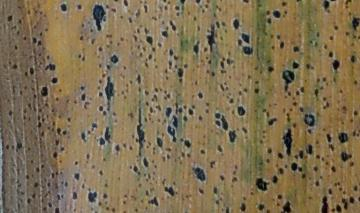tarspot: (134, 105, 146, 160), (91, 2, 107, 34), (280, 69, 296, 93), (281, 127, 293, 157), (104, 74, 114, 110), (190, 165, 208, 184), (205, 23, 215, 53), (254, 176, 270, 194), (166, 125, 178, 145), (318, 195, 330, 213), (280, 199, 294, 213), (336, 131, 349, 145), (220, 115, 230, 133), (163, 185, 178, 197), (104, 125, 112, 147), (303, 113, 316, 126), (86, 190, 99, 203), (227, 129, 238, 144), (351, 15, 360, 33), (176, 66, 185, 84), (340, 150, 352, 163), (240, 32, 252, 45), (146, 196, 160, 207), (167, 19, 178, 32), (218, 80, 229, 93), (242, 45, 253, 57), (39, 86, 50, 98), (272, 9, 282, 22), (331, 58, 340, 72), (219, 56, 226, 74), (79, 131, 88, 145), (163, 88, 172, 102), (171, 114, 179, 129), (110, 53, 120, 65), (193, 39, 201, 54), (44, 62, 56, 72), (135, 72, 143, 87), (351, 127, 360, 140), (232, 17, 240, 31), (236, 105, 246, 116), (320, 1, 331, 11), (132, 164, 142, 175), (59, 2, 69, 13), (215, 142, 224, 154), (341, 200, 349, 213), (328, 164, 338, 174), (213, 119, 223, 129), (267, 117, 277, 127), (144, 35, 154, 45), (343, 1, 354, 10), (183, 138, 192, 149), (97, 137, 106, 148), (90, 123, 98, 135), (307, 142, 314, 155), (284, 112, 291, 125), (291, 61, 300, 71), (75, 2, 84, 12), (290, 161, 298, 172), (271, 174, 279, 185), (239, 202, 247, 213), (187, 106, 195, 117), (155, 136, 163, 147), (73, 171, 81, 182), (142, 156, 149, 168), (55, 125, 62, 137), (71, 190, 78, 202), (208, 160, 217, 169), (161, 29, 170, 38), (125, 110, 134, 119), (214, 4, 223, 13), (325, 133, 333, 143), (229, 175, 239, 183), (89, 36, 97, 46), (335, 202, 342, 213), (298, 149, 305, 160), (312, 87, 319, 98), (165, 106, 172, 117), (127, 15, 134, 26), (63, 180, 70, 191), (134, 6, 141, 17), (298, 85, 306, 94), (241, 125, 249, 134), (113, 143, 121, 152), (51, 76, 59, 85), (50, 151, 59, 159), (322, 101, 330, 110), (167, 60, 174, 70), (28, 66, 35, 76), (83, 101, 90, 111), (347, 195, 355, 203), (257, 203, 265, 211), (224, 205, 232, 213), (236, 38, 244, 46), (291, 45, 299, 53), (213, 111, 221, 119), (6, 14, 14, 22), (15, 141, 23, 149), (337, 87, 345, 95), (151, 14, 159, 22), (314, 179, 321, 188), (349, 54, 356, 63), (196, 90, 203, 99), (279, 41, 286, 50), (327, 142, 334, 151), (180, 151, 187, 160), (7, 109, 14, 118), (314, 30, 321, 39), (53, 206, 62, 213), (142, 61, 151, 68), (147, 115, 154, 124), (117, 90, 126, 97), (145, 173, 152, 182), (331, 74, 338, 83), (327, 187, 333, 197), (143, 3, 148, 15), (80, 20, 86, 30), (161, 155, 167, 165), (56, 192, 61, 204), (152, 92, 158, 102), (147, 105, 153, 115), (327, 50, 334, 58), (198, 187, 205, 195), (266, 147, 273, 155), (266, 65, 273, 73), (96, 104, 104, 111), (122, 1, 130, 8), (31, 36, 38, 44), (253, 79, 260, 87), (246, 73, 253, 81), (242, 87, 250, 94), (39, 130, 46, 138), (132, 206, 140, 213), (156, 41, 163, 49), (174, 11, 182, 18), (182, 114, 189, 122), (45, 53, 52, 61), (257, 138, 264, 146), (306, 193, 313, 201), (163, 68, 170, 76), (36, 9, 44, 16), (136, 181, 143, 189), (29, 158, 36, 166), (112, 117, 119, 125), (216, 19, 221, 30), (212, 185, 218, 194), (266, 16, 272, 25), (221, 19, 227, 28), (80, 92, 86, 101), (11, 64, 20, 70), (54, 138, 60, 147), (102, 191, 108, 200), (25, 196, 31, 205), (143, 26, 149, 35), (144, 88, 150, 97), (18, 88, 24, 97), (305, 61, 310, 71), (50, 171, 55, 181), (196, 23, 201, 33), (352, 109, 359, 116), (228, 98, 235, 105), (218, 174, 225, 181), (191, 103, 198, 110), (197, 114, 204, 121), (199, 148, 206, 155), (233, 163, 240, 170), (128, 144, 135, 151), (97, 91, 104, 98), (253, 87, 260, 94), (22, 70, 29, 77), (36, 40, 43, 47), (306, 128, 313, 135), (79, 84, 86, 91), (61, 128, 68, 135), (341, 104, 348, 111), (343, 30, 350, 37), (106, 31, 113, 38), (29, 86, 36, 93), (352, 184, 358, 192), (341, 189, 347, 197), (278, 167, 284, 175), (352, 78, 358, 86), (280, 1, 288, 7), (299, 106, 305, 114), (324, 159, 330, 167), (225, 57, 231, 65), (109, 6, 117, 12), (38, 30, 44, 38), (104, 64, 112, 70), (85, 152, 91, 160), (73, 159, 79, 167), (66, 116, 72, 124), (309, 64, 315, 72), (33, 181, 39, 189), (24, 172, 30, 180), (43, 101, 49, 109), (22, 34, 28, 42), (349, 40, 355, 48), (155, 103, 161, 111), (177, 106, 183, 114), (31, 93, 39, 99), (118, 14, 126, 20), (26, 101, 32, 109), (193, 78, 199, 86), (135, 87, 143, 93), (162, 117, 168, 125), (153, 178, 159, 186), (277, 192, 282, 201), (168, 48, 173, 57), (13, 43, 18, 52), (10, 142, 15, 151), (98, 168, 103, 177), (104, 204, 109, 213), (164, 147, 173, 152), (161, 177, 166, 186), (147, 52, 152, 61), (265, 109, 270, 118), (145, 188, 150, 197), (11, 84, 16, 93), (239, 1, 250, 5), (61, 191, 65, 202), (300, 173, 307, 179), (264, 207, 271, 213), (214, 198, 220, 205), (333, 24, 339, 31), (328, 35, 334, 42), (264, 9, 271, 15), (269, 45, 276, 51), (275, 34, 282, 40), (265, 156, 271, 163), (204, 101, 210, 108), (127, 164, 134, 170), (97, 45, 103, 52), (43, 27, 50, 33), (82, 55, 88, 62), (97, 79, 104, 85), (59, 146, 66, 152), (291, 100, 297, 107), (315, 77, 321, 84), (321, 127, 327, 134), (237, 90, 243, 97), (47, 202, 53, 209), (34, 166, 40, 173), (152, 86, 159, 92), (200, 7, 206, 14), (118, 35, 124, 42), (286, 90, 292, 97), (90, 163, 96, 170), (101, 156, 107, 163), (49, 125, 55, 132), (211, 12, 217, 19), (248, 190, 255, 196), (65, 98, 71, 105), (111, 110, 117, 117), (313, 165, 318, 173), (277, 151, 282, 159), (320, 156, 325, 164), (122, 141, 127, 149), (132, 33, 137, 41), (292, 121, 297, 129), (4, 143, 9, 151), (166, 153, 171, 161), (313, 40, 318, 48), (37, 121, 42, 129), (26, 7, 31, 15), (210, 69, 215, 77), (120, 65, 128, 70), (136, 43, 141, 51), (50, 107, 55, 115), (281, 106, 286, 114), (130, 132, 135, 140), (294, 152, 298, 161), (241, 195, 247, 201), (204, 109, 210, 115), (178, 1, 187, 5), (194, 1, 203, 5), (78, 35, 84, 41), (72, 99, 78, 105), (110, 207, 116, 213), (42, 205, 48, 211), (207, 58, 213, 64), (37, 52, 43, 58), (45, 113, 49, 122), (129, 77, 133, 86), (26, 146, 32, 152), (330, 206, 335, 213), (231, 170, 238, 175), (323, 43, 328, 50), (321, 75, 326, 82), (349, 117, 354, 124), (253, 64, 258, 71), (31, 191, 36, 198), (17, 18, 22, 25), (174, 4, 179, 11), (261, 107, 266, 114), (182, 104, 189, 109), (21, 114, 26, 121), (261, 133, 266, 140), (124, 82, 129, 89), (153, 63, 158, 70), (108, 39, 115, 44), (303, 78, 308, 85), (227, 73, 232, 80), (218, 34, 223, 41), (205, 68, 210, 75), (192, 14, 196, 22), (152, 164, 160, 168), (105, 44, 113, 48), (121, 209, 129, 213), (349, 161, 354, 167), (338, 187, 344, 192), (294, 1, 304, 4), (269, 33, 274, 39), (315, 154, 320, 160), (186, 151, 191, 157), (102, 110, 107, 116), (173, 55, 179, 60), (77, 53, 82, 59), (98, 63, 103, 69), (340, 119, 345, 125), (39, 162, 44, 168), (57, 87, 62, 93), (54, 96, 60, 101), (46, 180, 51, 186), (151, 46, 156, 52), (163, 4, 168, 10), (37, 107, 42, 113), (36, 114, 41, 120), (103, 182, 108, 188), (22, 108, 27, 114), (141, 45, 146, 51), (51, 120, 56, 126), (260, 129, 266, 134), (160, 19, 165, 25), (164, 75, 169, 81), (123, 192, 128, 198), (95, 86, 102, 90), (308, 38, 312, 45), (15, 30, 19, 37), (59, 168, 63, 175), (116, 174, 120, 181), (138, 51, 142, 58), (56, 114, 63, 118), (283, 10, 290, 14), (336, 180, 341, 185), (204, 3, 209, 8), (156, 117, 161, 122), (29, 78, 34, 83), (357, 195, 360, 203), (298, 166, 302, 172), (161, 1, 167, 5), (356, 34, 360, 40), (122, 199, 126, 205), (27, 115, 31, 121), (332, 181, 337, 185), (87, 129, 91, 134), (352, 34, 356, 39), (55, 170, 58, 176), (322, 96, 326, 100), (46, 125, 49, 130), (112, 1, 119, 3), (205, 1, 209, 4), (328, 1, 337, 2), (218, 1, 222, 3)
